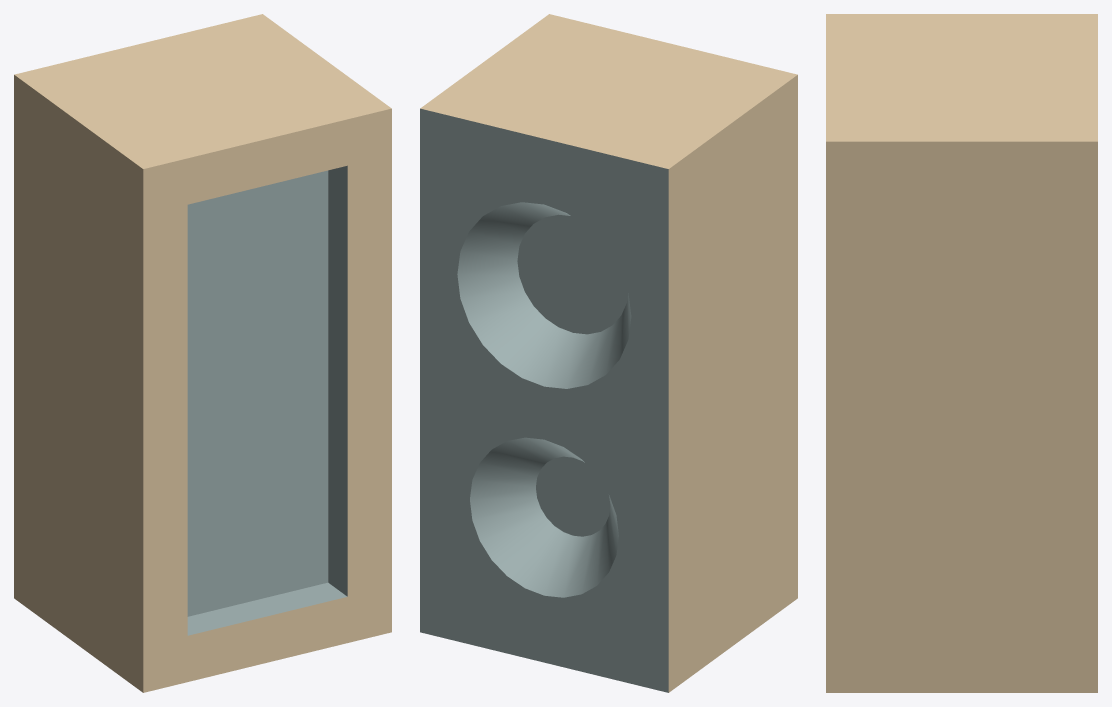
Rendered from speakerSmall.glb.
3 renders of one model, left to right at view 1: azimuth 30°, elevation 25°; view 2: azimuth 150°, elevation 25°; view 3: azimuth 270°, elevation 25°, orthographic. The views are drawn at different scales.
Visible parts, largest first — view 1: speakerSmall; view 2: speakerSmall; view 3: speakerSmall.
Part boxes in pixels (bbox=[...]): speakerSmall: bbox=[14, 14, 391, 692]; speakerSmall: bbox=[420, 14, 797, 692]; speakerSmall: bbox=[826, 14, 1097, 692].
Size of the model in its own units: 1.48 by 2.98 by 1.33.
